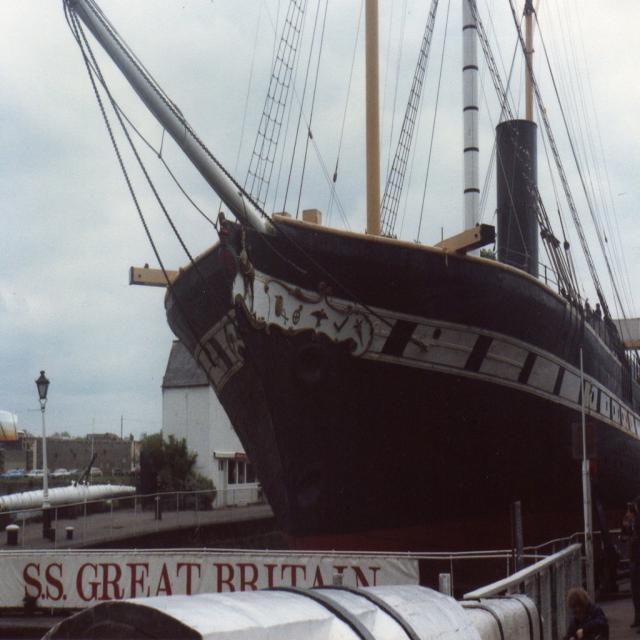Boat: (25, 0, 640, 592)
